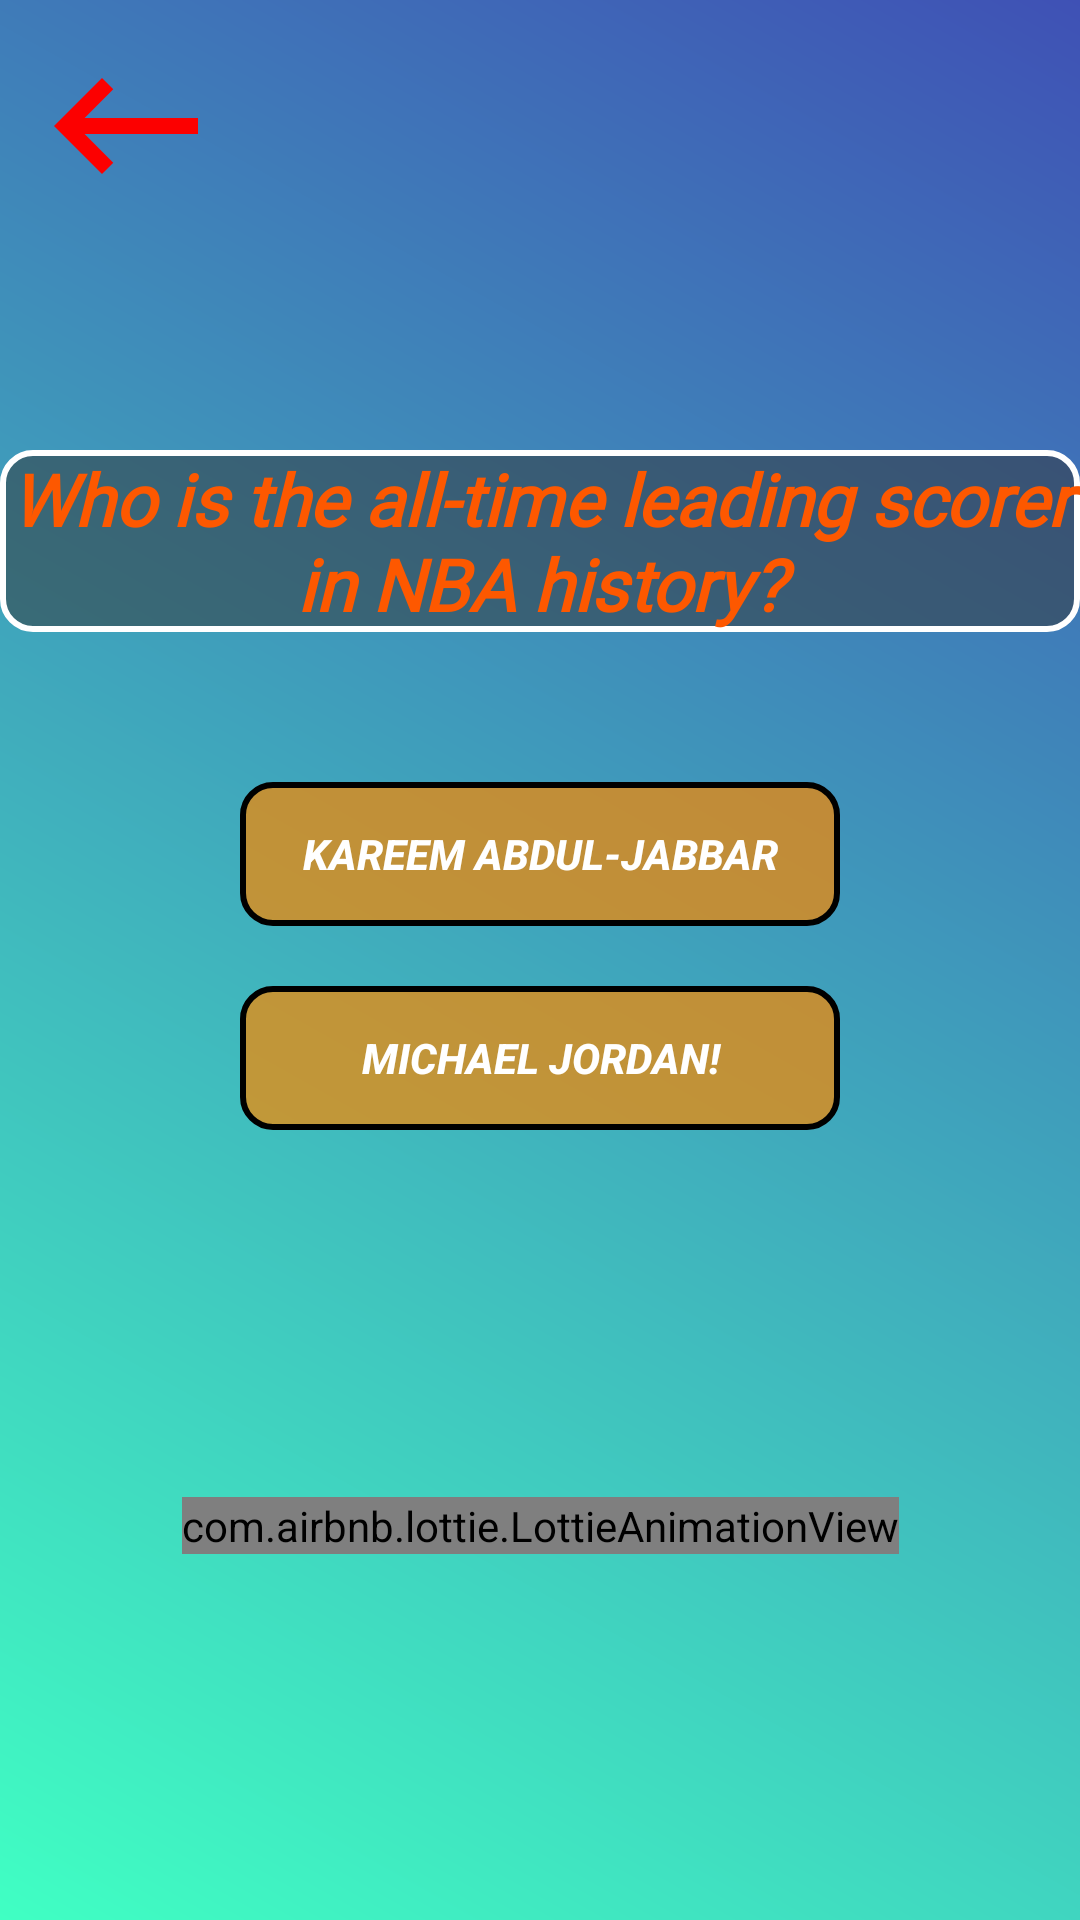

Named icons in this screenshot (1080px×1920px) and their bounding boxes, (x1, y1, x2, y2):
back: (54, 78, 198, 174)
